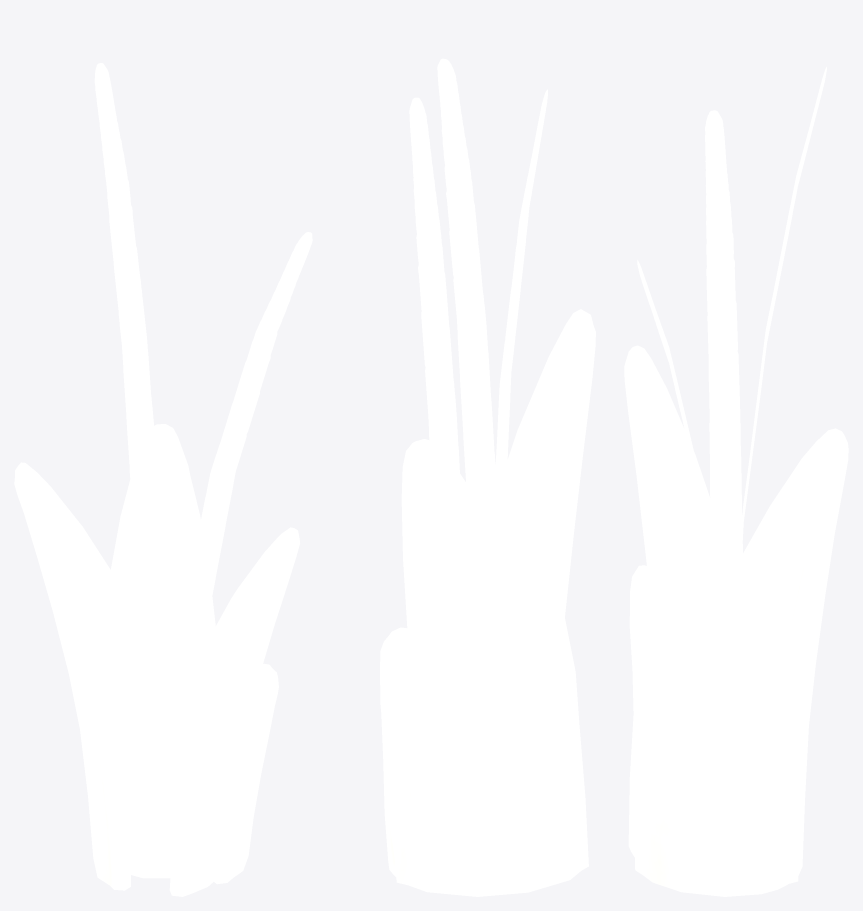
3 views of the same model, side by side, from view 1: azimuth 30°, elevation 25°; view 2: azimuth 150°, elevation 25°; view 3: azimuth 270°, elevation 25° (orthographic). The views are drawn at different scales.
Parts seen in each view (by area): view 1: SM_Desert_Weed_Diseased_01_LOD0; view 2: SM_Desert_Weed_Diseased_01_LOD0; view 3: SM_Desert_Weed_Diseased_01_LOD0.
Part boxes in pixels (x1,y1,x2,y2): SM_Desert_Weed_Diseased_01_LOD0: (14, 63, 312, 896); SM_Desert_Weed_Diseased_01_LOD0: (380, 58, 595, 896); SM_Desert_Weed_Diseased_01_LOD0: (624, 67, 848, 896).
Bounding box in the file's own units: 0.1549 × 0.4969 × 0.1225.
